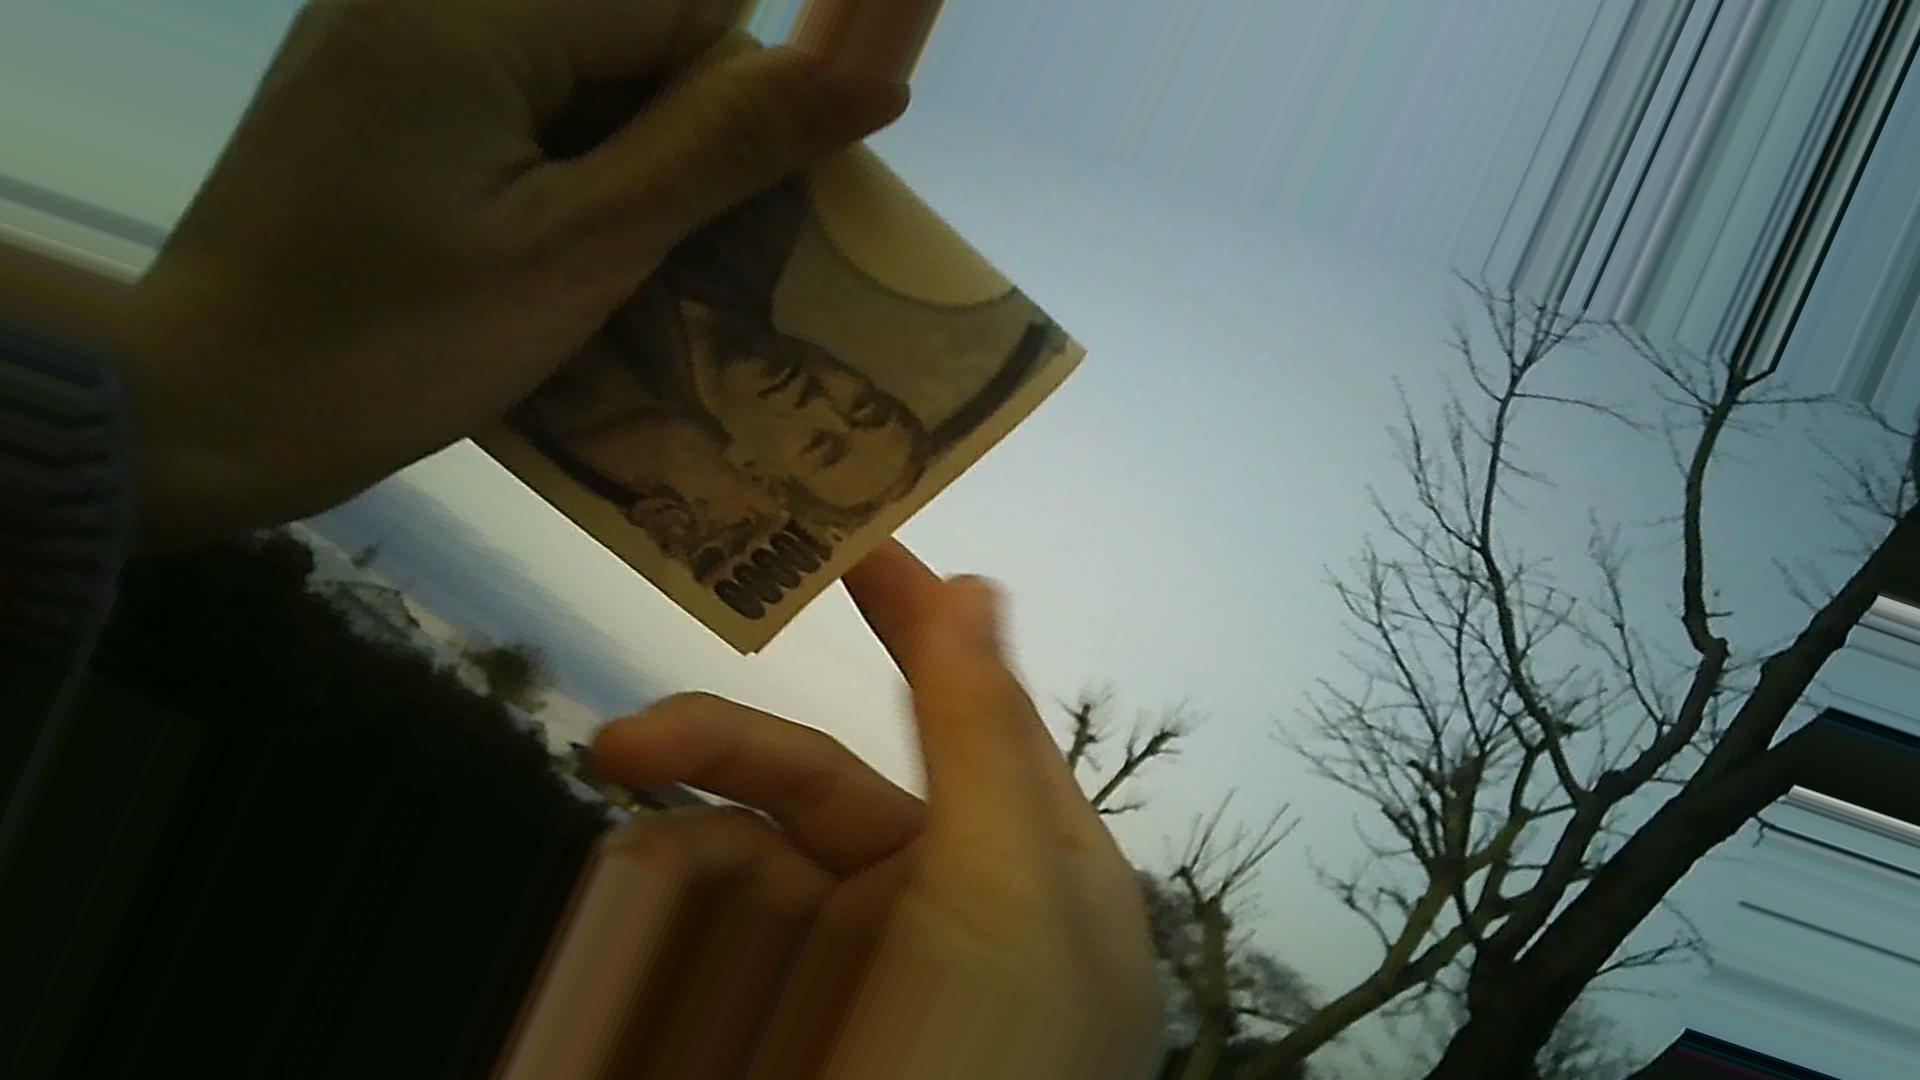10,000 Yen: (442, 92, 1093, 665)
